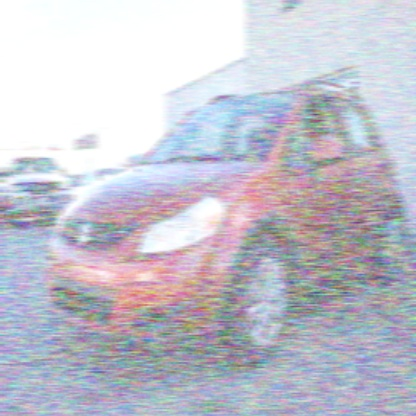Vehicle: (47, 79, 402, 368)
